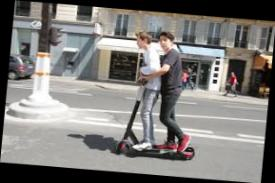multiple: (112, 27, 207, 162)
